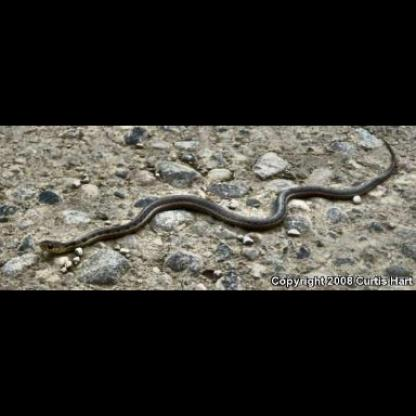Snake: (37, 146, 400, 262)
